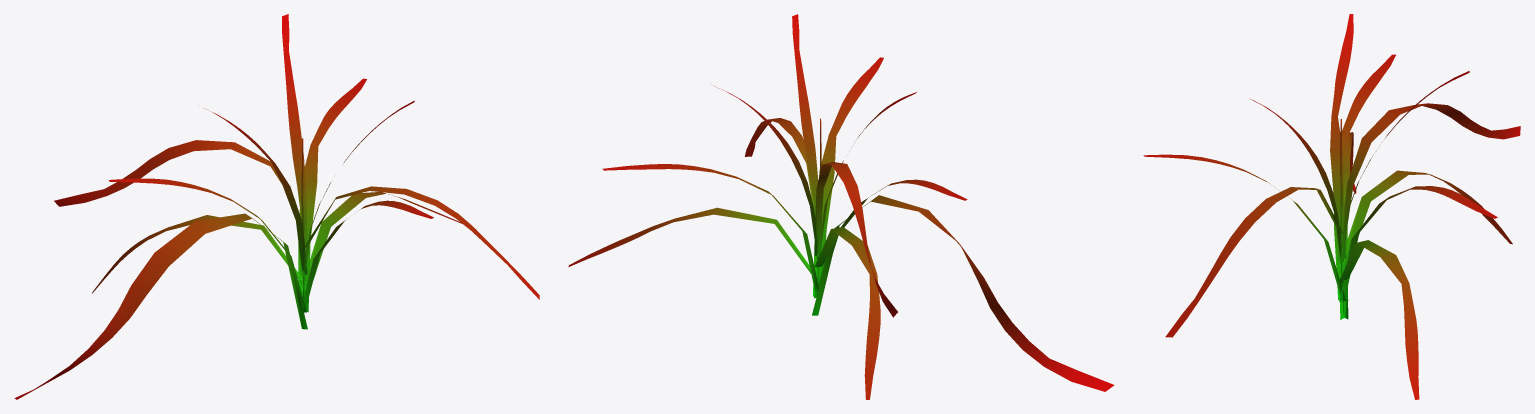
Rendered from tkbidaxia_Var9_LOD0.fbx.
3 renders of one model, left to right at view 1: azimuth 30°, elevation 25°; view 2: azimuth 150°, elevation 25°; view 3: azimuth 270°, elevation 25°, orthographic. The views are drawn at different scales.
Visible parts, largest first — view 1: _b8ec_Var9_LOD0; view 2: _b8ec_Var9_LOD0; view 3: _b8ec_Var9_LOD0.
Boxes of the visible parts, x1,y1,x2,y2 form: _b8ec_Var9_LOD0: (14,14,539,399); _b8ec_Var9_LOD0: (568,14,1114,399); _b8ec_Var9_LOD0: (1143,14,1520,399).
Bounding box in the file's own units: 40.86 × 20.59 × 25.93.
